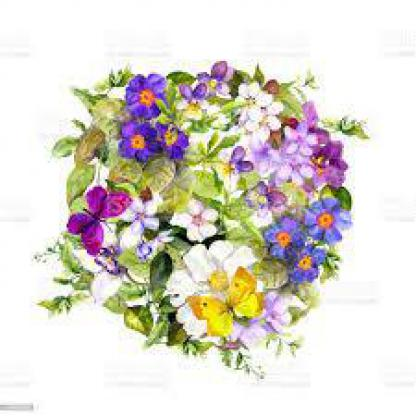Kupu-Kupu: (75, 184, 114, 256)
